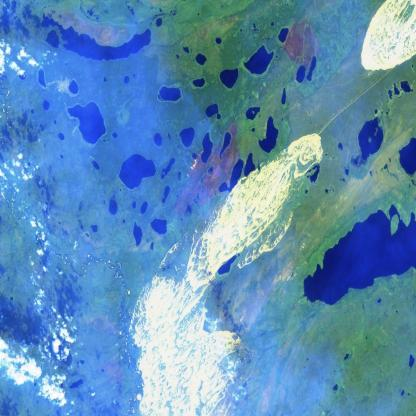fire: (180, 148, 206, 184)
